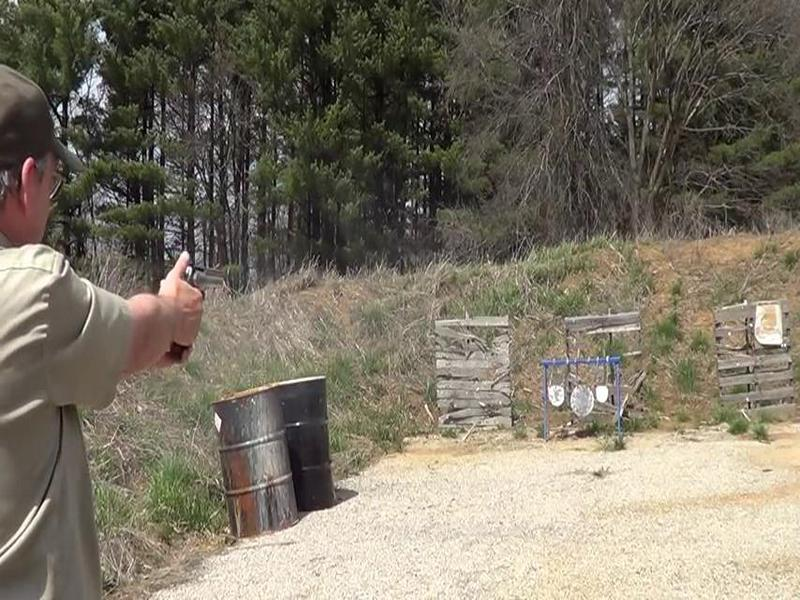Revolver: (149, 253, 238, 368)
